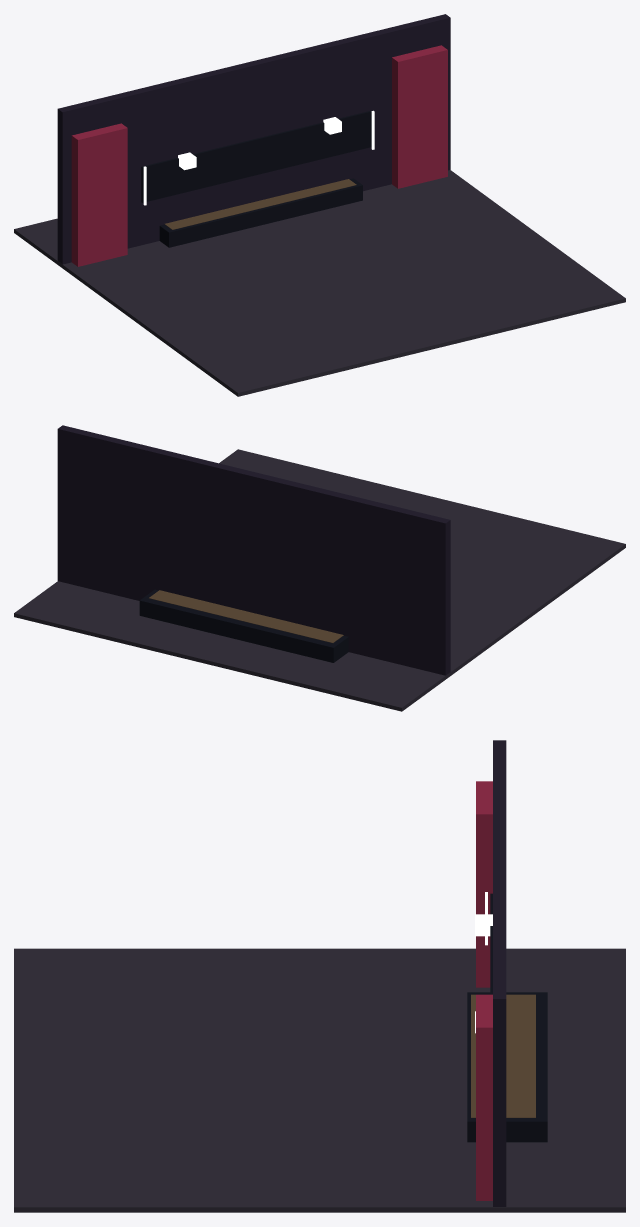
File: room.glb
The picture shows the model from 3 angles, top to bottom: view 1: azimuth 30°, elevation 25°; view 2: azimuth 150°, elevation 25°; view 3: azimuth 270°, elevation 25°; orthographic projection. The views are drawn at different scales.
Visible parts, largest first — view 1: QuietFloorGeometry, stage-backdropGeometry, curtainsGeometry, club-brandingGeometry, dramatic-lightGeometry; view 2: stage-backdropGeometry, QuietFloorGeometry, dramatic-lightGeometry; view 3: QuietFloorGeometry, stage-backdropGeometry, curtainsGeometry, dramatic-lightGeometry.
Part boxes in pixels (x1,y1,x2,y2): QuietFloorGeometry: [14, 170, 625, 396]; stage-backdropGeometry: [57, 14, 450, 264]; curtainsGeometry: [71, 45, 447, 266]; club-brandingGeometry: [141, 110, 374, 205]; dramatic-lightGeometry: [165, 117, 356, 229]; stage-backdropGeometry: [57, 425, 450, 675]; QuietFloorGeometry: [14, 449, 625, 711]; dramatic-lightGeometry: [149, 590, 343, 642]; QuietFloorGeometry: [14, 948, 625, 1212]; stage-backdropGeometry: [467, 740, 547, 1206]; curtainsGeometry: [476, 781, 492, 1200]; dramatic-lightGeometry: [471, 914, 535, 1117].
Size of the model in its own units: 16 by 6.16 by 16.
